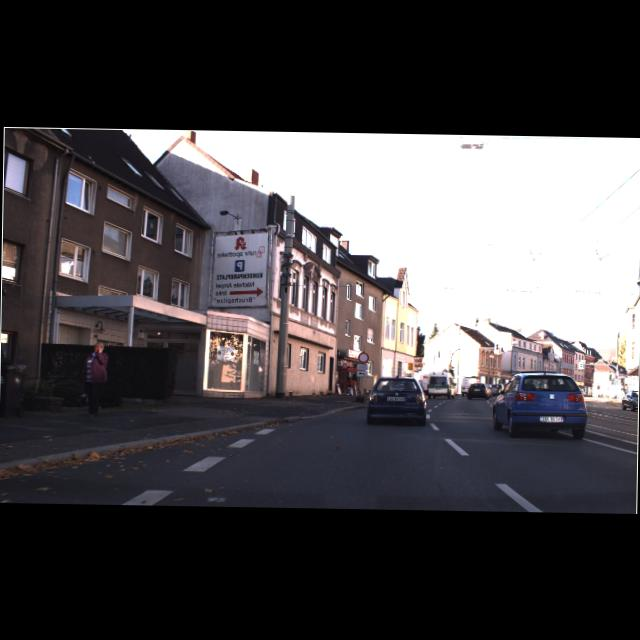prohibitory: (358, 352, 369, 363)
